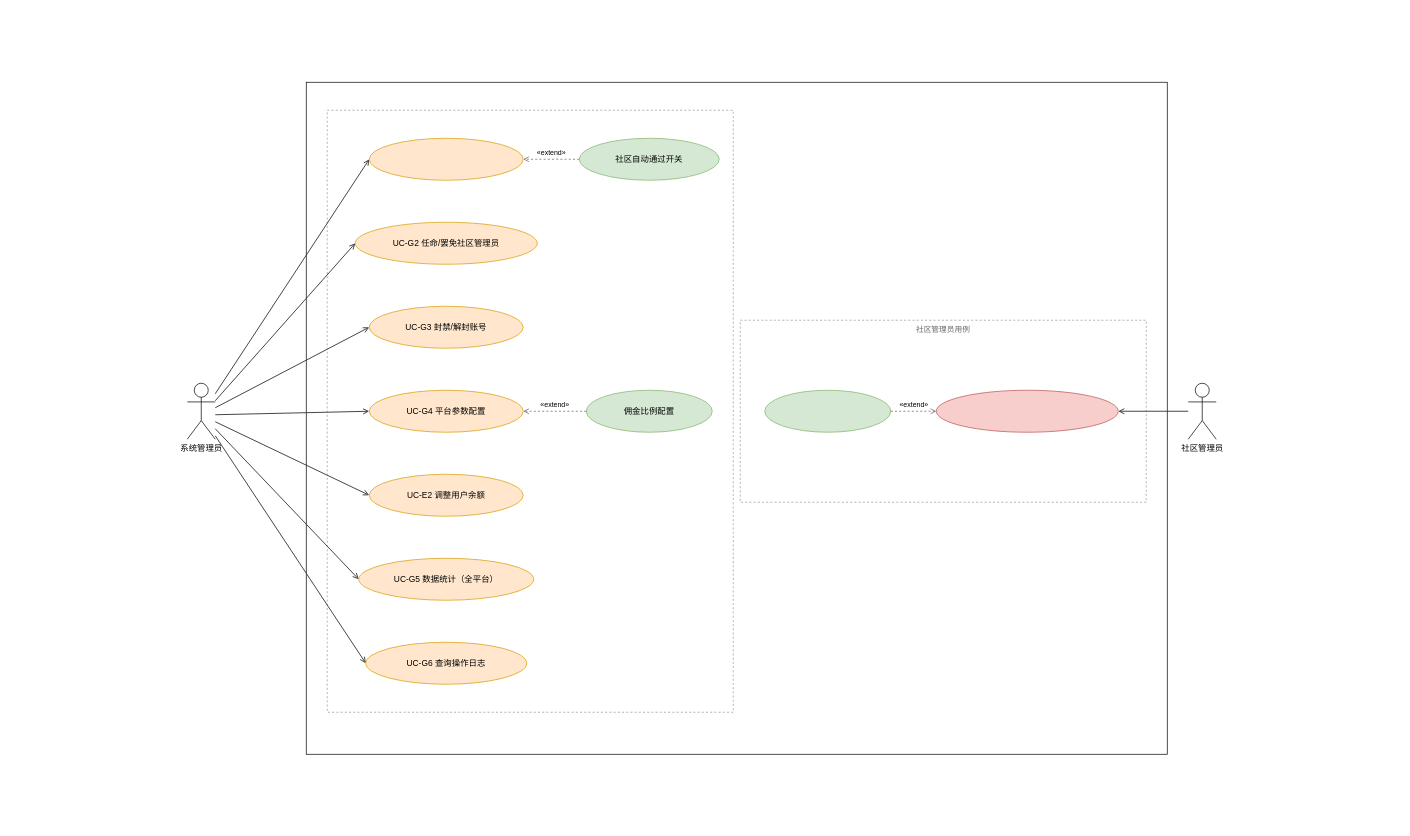
Some shapes in this 1410 by 836 pixel diagram are drawn without their labels. The shapes that lost their labels are listed below. From the top down, each one's box as (x1, y1, x2, y2) in pixels, then its label:
(369, 138, 523, 180): UC-G1 创建/编辑社区
(327, 110, 733, 712): 系统管理员用例
(306, 82, 1167, 754): 平台管理子系统
(764, 390, 891, 432): 导出统计报表
(936, 390, 1118, 432): UC-G7 数据统计（本社区）
